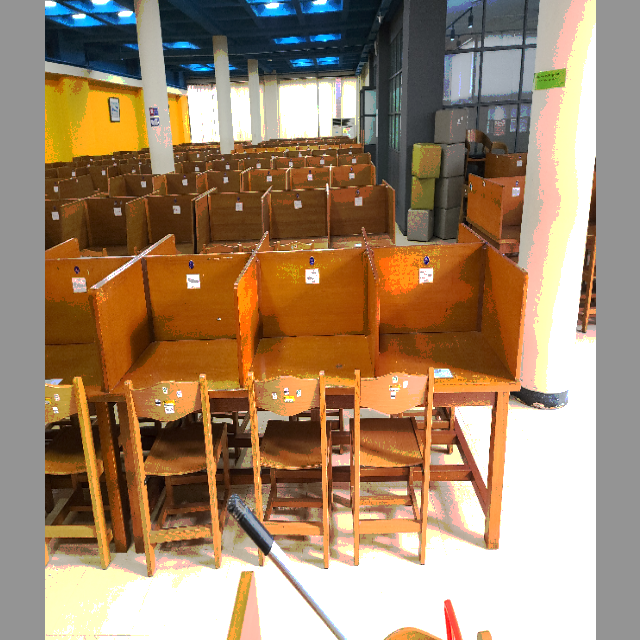empty: (244, 252, 391, 468), (101, 252, 240, 478), (403, 252, 527, 475)
